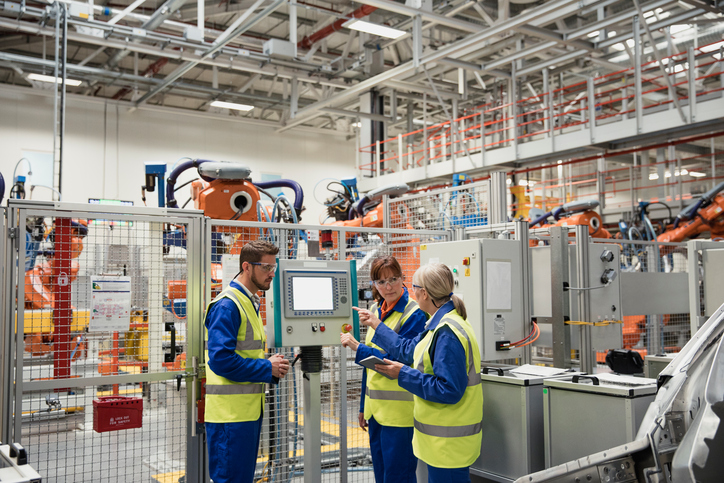person: (350, 264, 486, 483), (200, 239, 293, 483), (357, 256, 431, 483)
robot: (140, 155, 311, 340), (312, 175, 426, 312), (632, 176, 724, 271), (502, 195, 627, 251)
